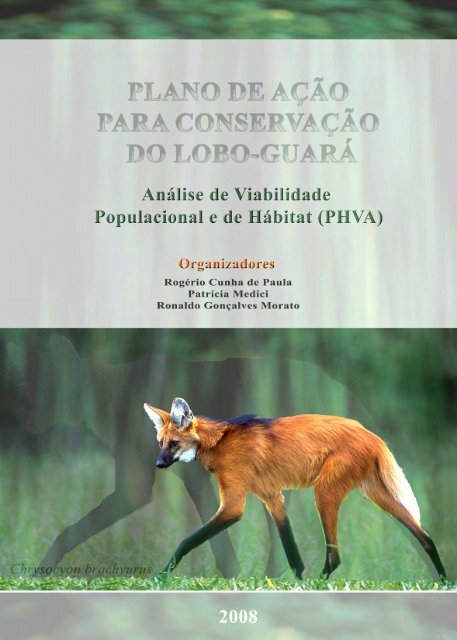LoboGuara: (134, 394, 451, 589)
